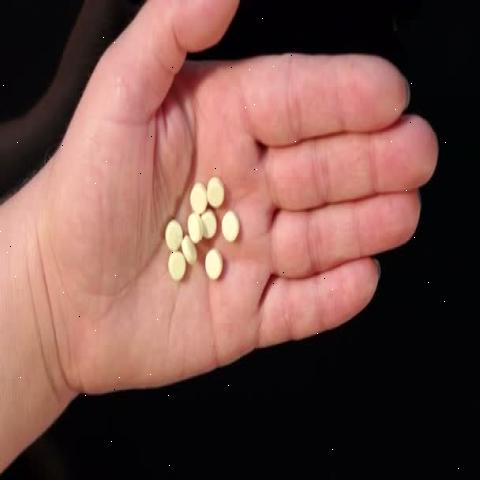Pill: (214, 202, 241, 255), (201, 244, 225, 300), (158, 210, 181, 255), (165, 247, 187, 293), (205, 162, 223, 210), (184, 178, 206, 212), (185, 210, 201, 242)
